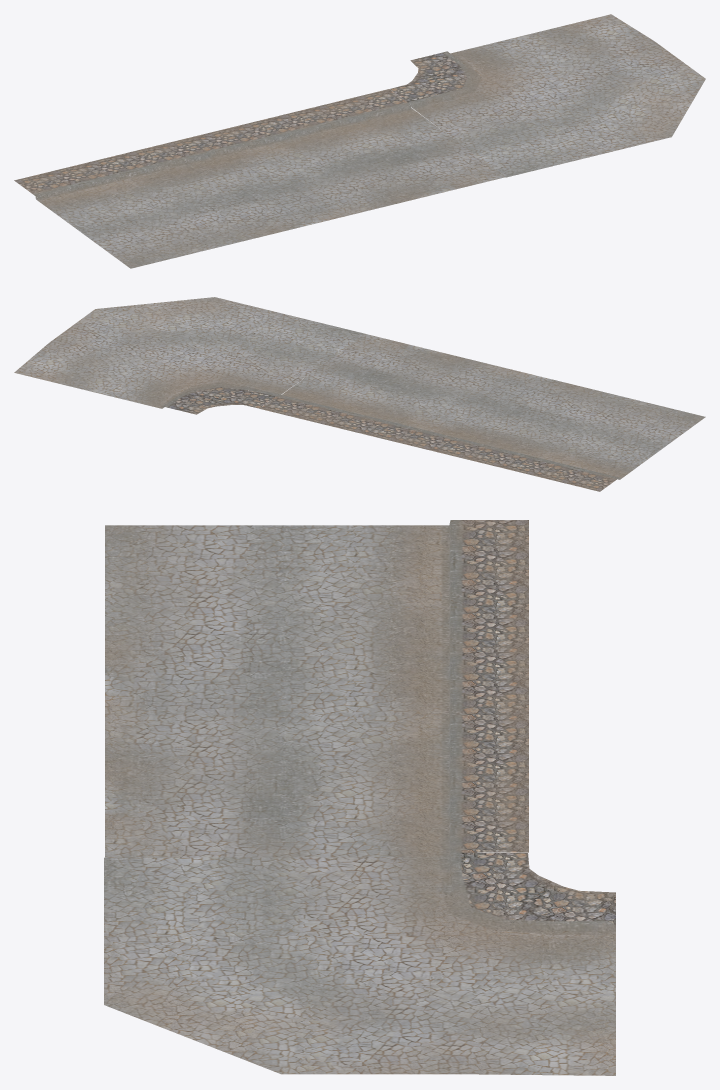
File: RoadCorner01.fbx
The picture shows the model from 3 angles, top to bottom: view 1: azimuth 30°, elevation 25°; view 2: azimuth 150°, elevation 25°; view 3: azimuth 270°, elevation 25°; orthographic projection. The views are drawn at different scales.
Visible parts, largest first — view 1: polySurface885; view 2: polySurface885; view 3: polySurface885.
Boxes of the visible parts, <box> form: polySurface885: <box>14,14,705,268</box>; polySurface885: <box>14,297,705,491</box>; polySurface885: <box>104,520,615,1075</box>.
Size of the model in its own units: 5017 by 23.37 by 1963.
